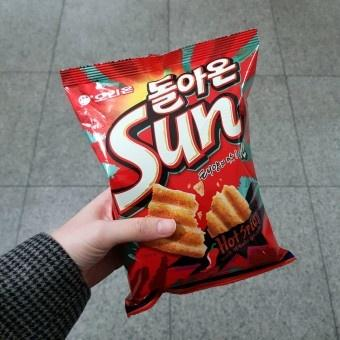snack: (59, 28, 298, 318)
